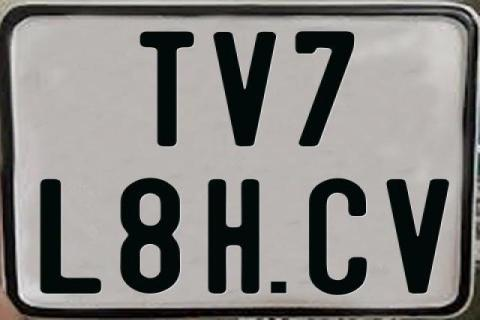0: (292, 30, 357, 150), (120, 178, 180, 296)
C: (309, 178, 372, 298)
H: (208, 177, 264, 292)
L: (38, 177, 100, 297)
T: (138, 32, 196, 152)
V: (384, 179, 449, 299), (210, 29, 277, 145)
